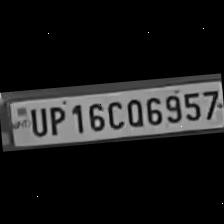1: (66, 100, 86, 134)
5: (180, 87, 202, 121)
6: (84, 99, 106, 132), (142, 92, 162, 125)
7: (200, 86, 221, 119)
9: (162, 90, 182, 124)
C: (103, 96, 125, 130)
P: (45, 102, 68, 136)
Q: (122, 95, 144, 127)
U: (25, 104, 48, 137)
